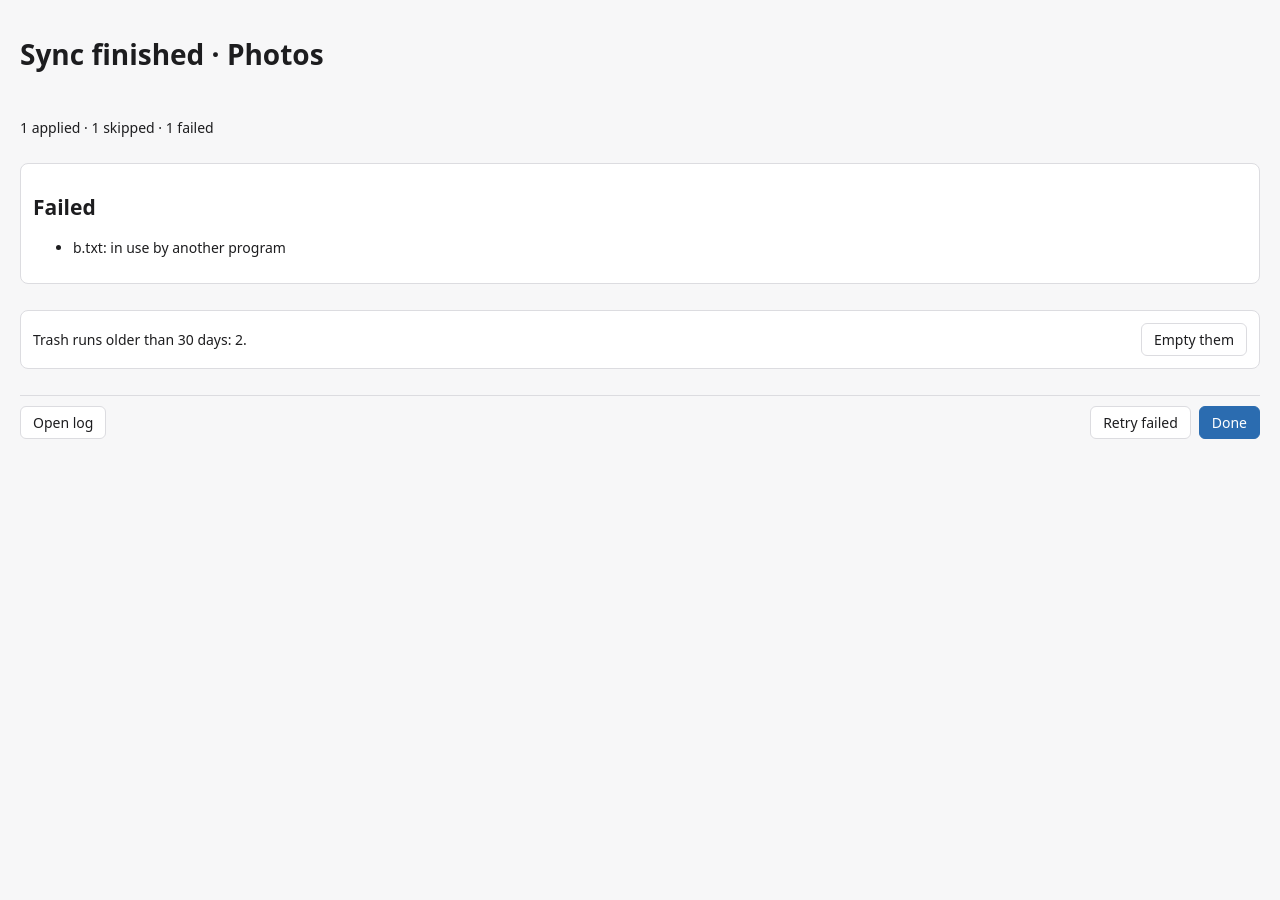
Test case: Result › a_partial_empty_failure_keeps_only_the_runs_not_yet_emptied
This screenshot has width=1280, height=900.
Click the button "Empty them" at (1194, 340), box 1141,323 -> 1247,356
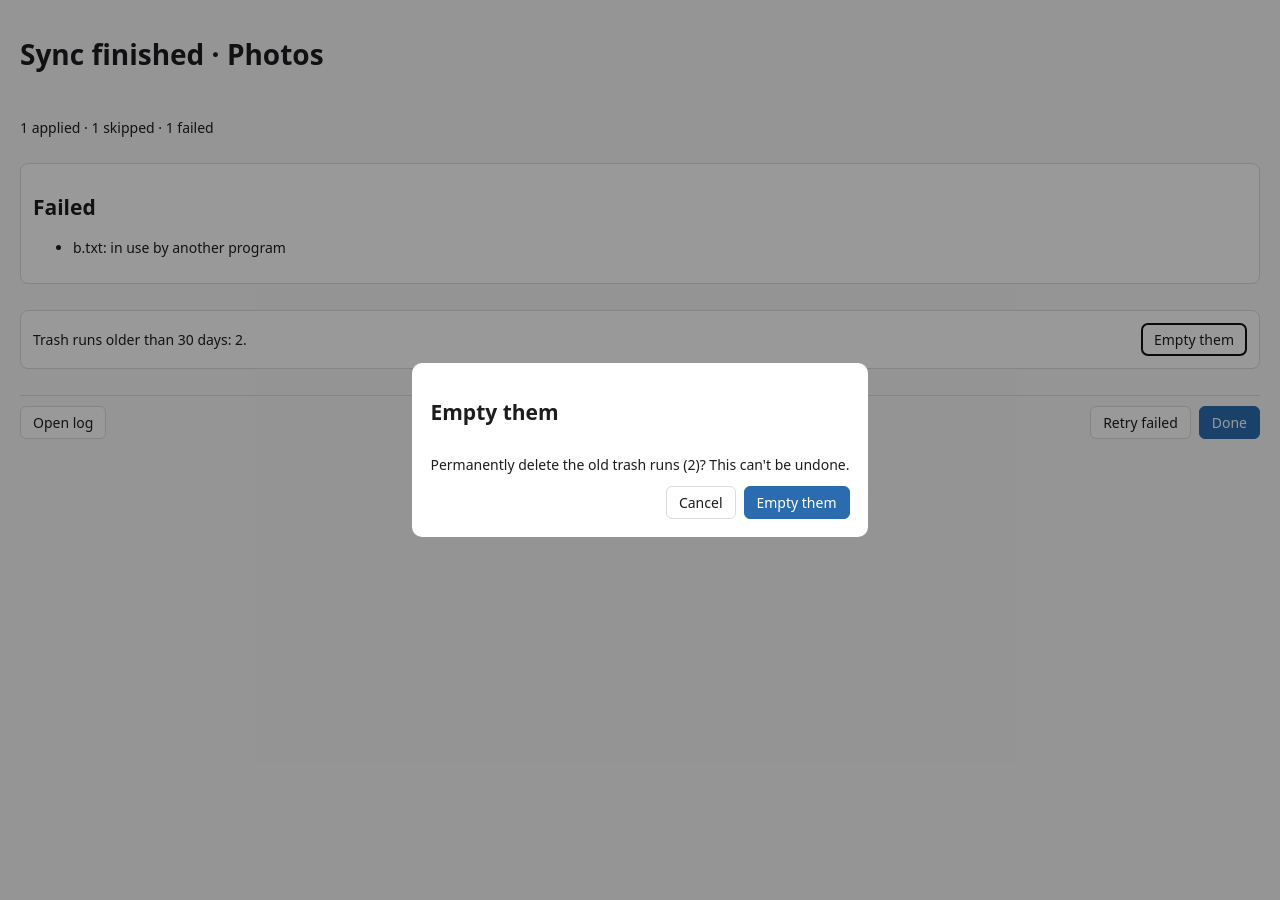
Click the button "Empty them" at (796, 503), box 744,486 -> 850,519
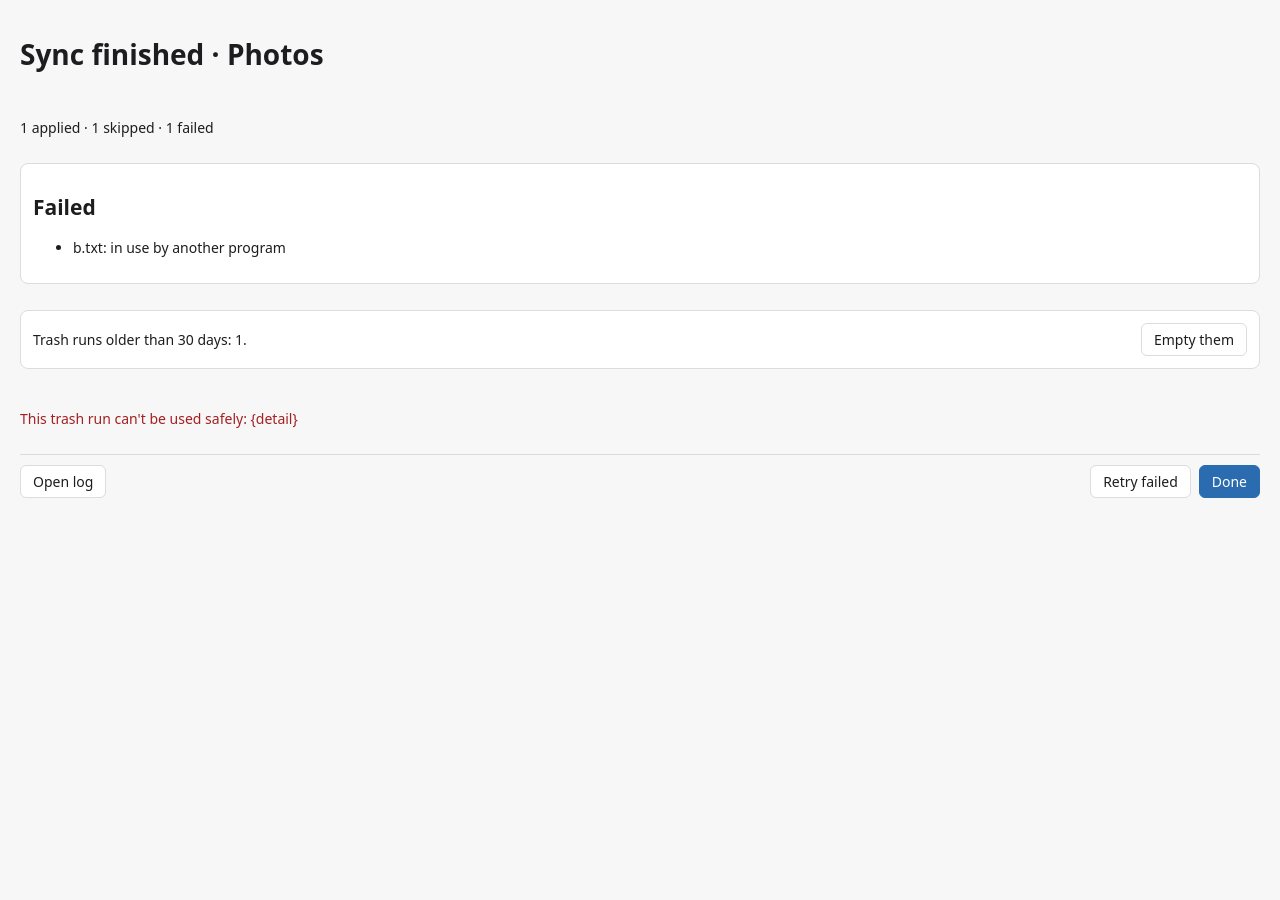
Result: the message "This trash run can't be used safely: {detail}" is shown at 20,409 -> 298,428
Result: the text "Trash runs older than 30 days: 1." is shown at 33,330 -> 247,349
